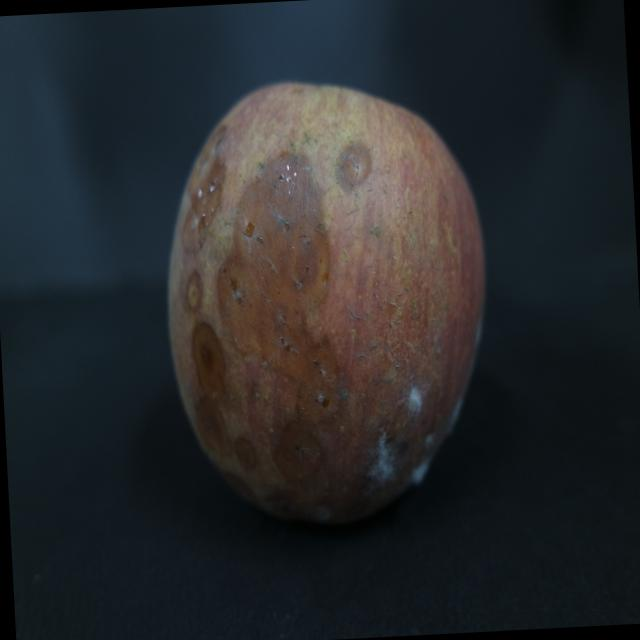rotten: (147, 58, 512, 572)
